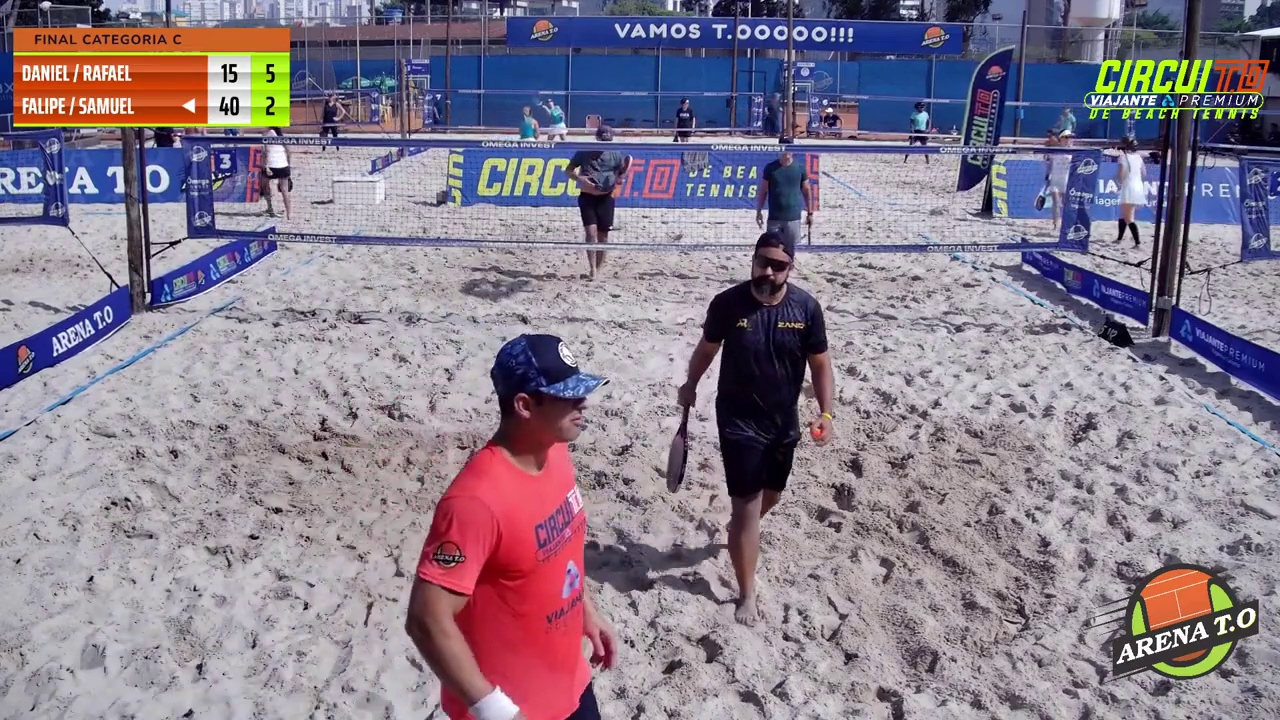court_line: (650, 0, 802, 488), (545, 0, 675, 514)
